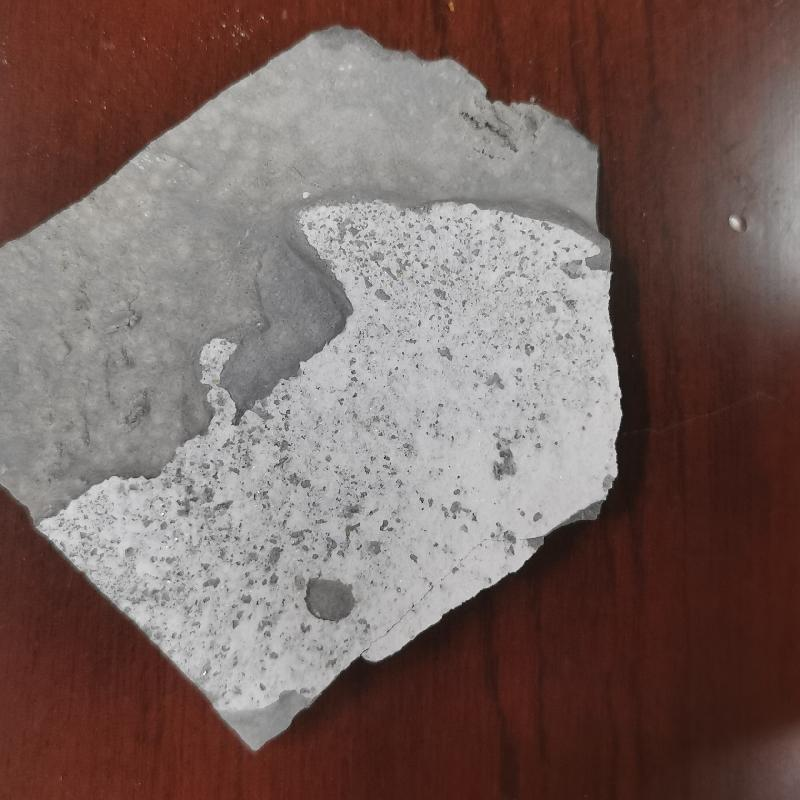tile: (4, 25, 626, 753)
